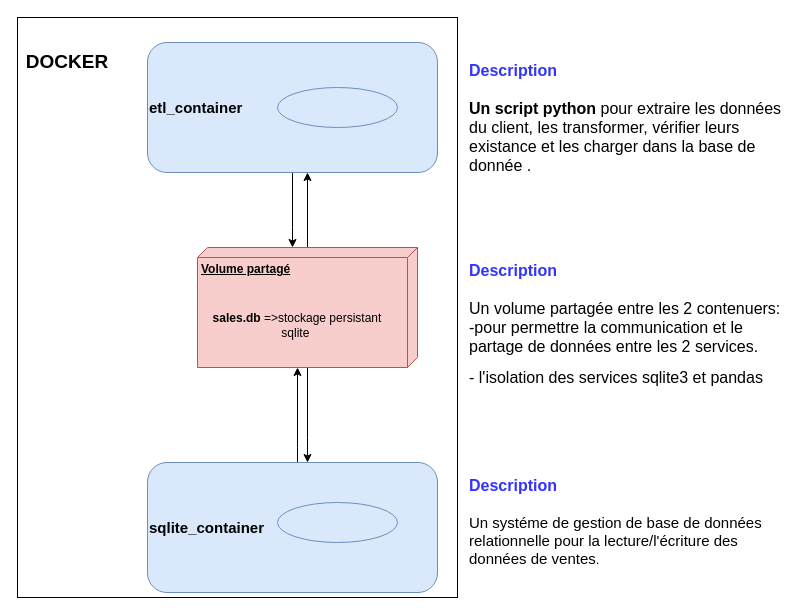
Image size: 805x615. Some labels were removed from this diagram. The shapes that lost their labels are listed below. From the top down, each one's centre as x and y in pixels, then its label:
At point (337, 107): "etl service".
At point (337, 522): "bd service".
